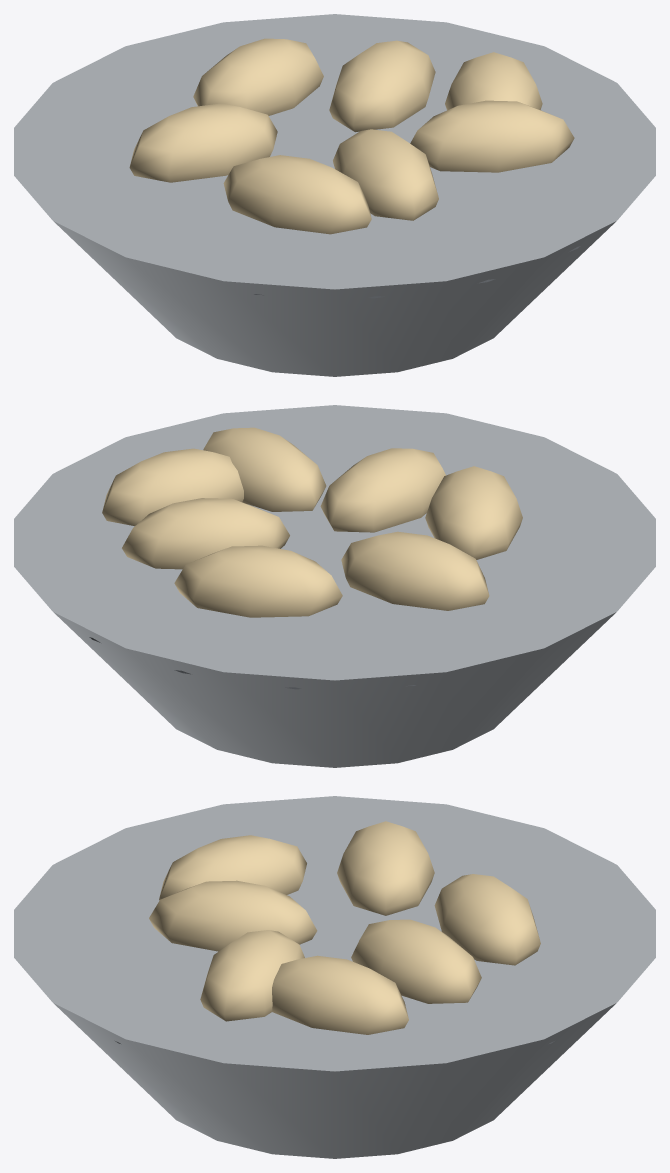
The model's file is cashew_bowl.glb.
3 views of the same model, one above another, from view 1: azimuth 30°, elevation 25°; view 2: azimuth 150°, elevation 25°; view 3: azimuth 270°, elevation 25° (orthographic).
Parts seen in each view (by area): view 1: cashew_bowl; view 2: cashew_bowl; view 3: cashew_bowl.
Part boxes in pixels (<box>): cashew_bowl: <box>14,14,655,376</box>; cashew_bowl: <box>14,405,655,767</box>; cashew_bowl: <box>14,796,655,1158</box>.
Size of the model in its own units: 0.64 by 0.212 by 0.6303.
